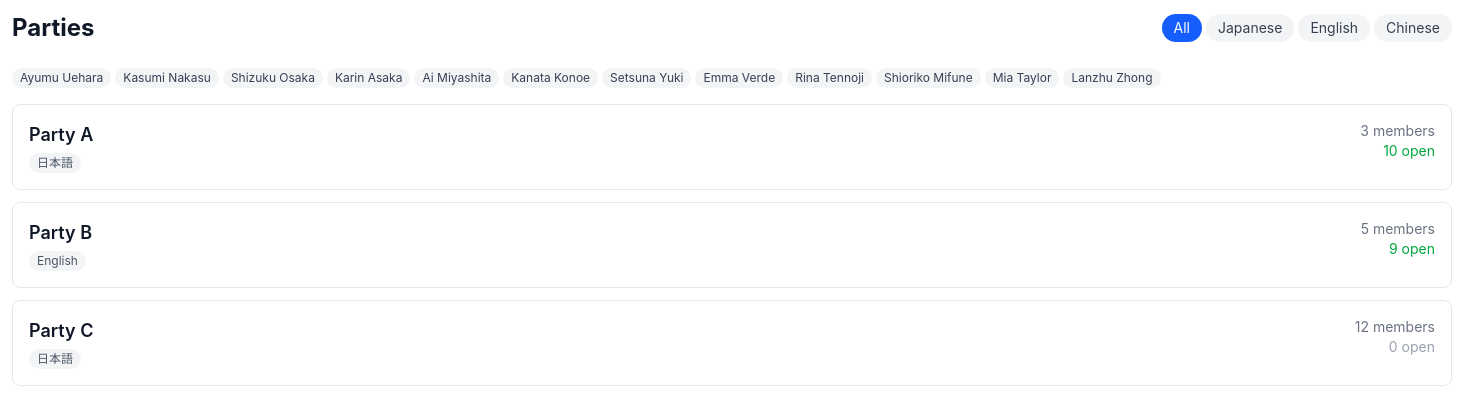
Test case: PartyList — character filtering › deselects a character filter on second click
The width and height of the screenshot is (1464, 403).
Expected: the heading "Party A" is shown, [29, 121, 93, 149]
Click the button "Shizuku Osaka" at (273, 78), box [223, 68, 323, 88]
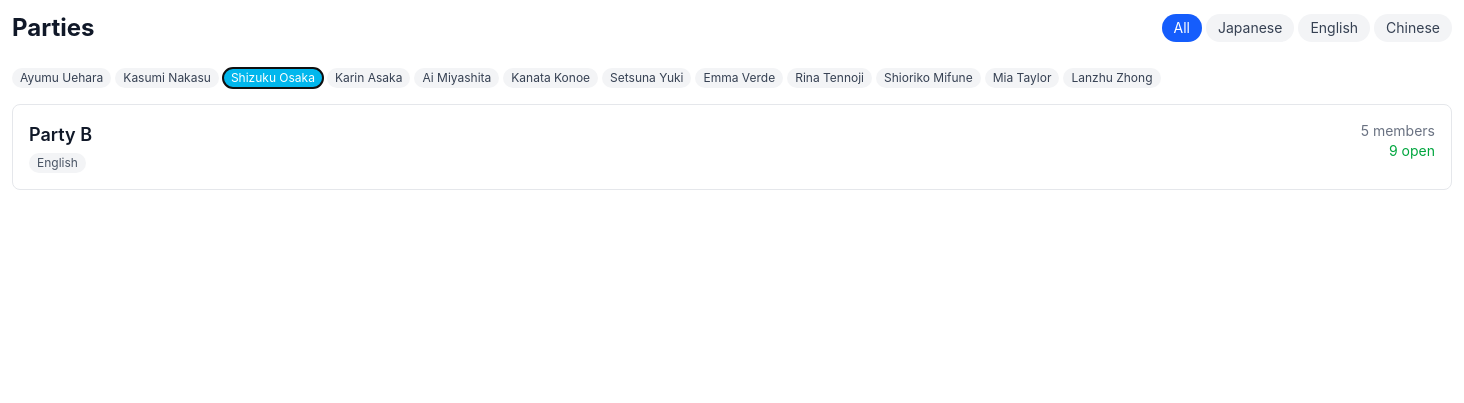
Now the link "Party A" is gone
Click the button "Shizuku Osaka" at (273, 78), box [223, 68, 323, 88]
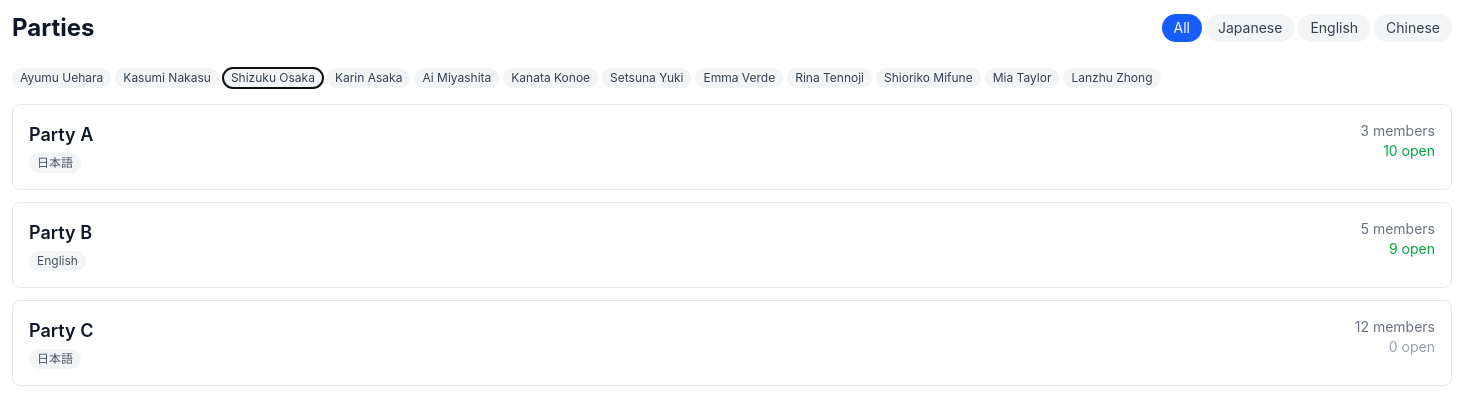
Expected: the heading "Party B" is shown, [29, 219, 92, 247]
Now the heading "Party A" is shown, box [29, 121, 93, 149]
Now the heading "Party C" is shown, box [29, 317, 93, 345]
